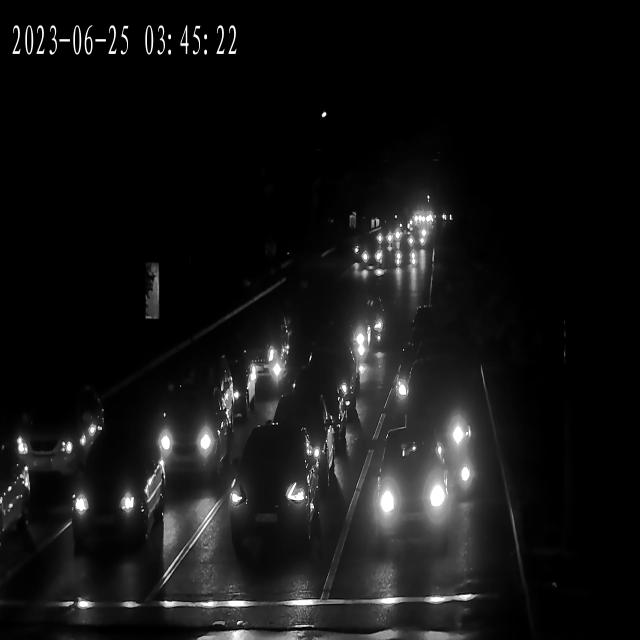Car: (55, 437, 164, 558), (1, 379, 110, 490), (226, 434, 322, 552), (394, 360, 477, 495), (370, 453, 456, 546), (150, 387, 228, 487), (271, 390, 338, 475), (402, 396, 472, 464), (305, 357, 355, 435), (0, 449, 36, 554), (202, 344, 258, 410), (244, 317, 288, 386), (329, 322, 373, 381), (356, 294, 390, 344), (348, 238, 385, 270), (390, 230, 416, 263), (372, 224, 398, 255), (410, 214, 430, 245)
